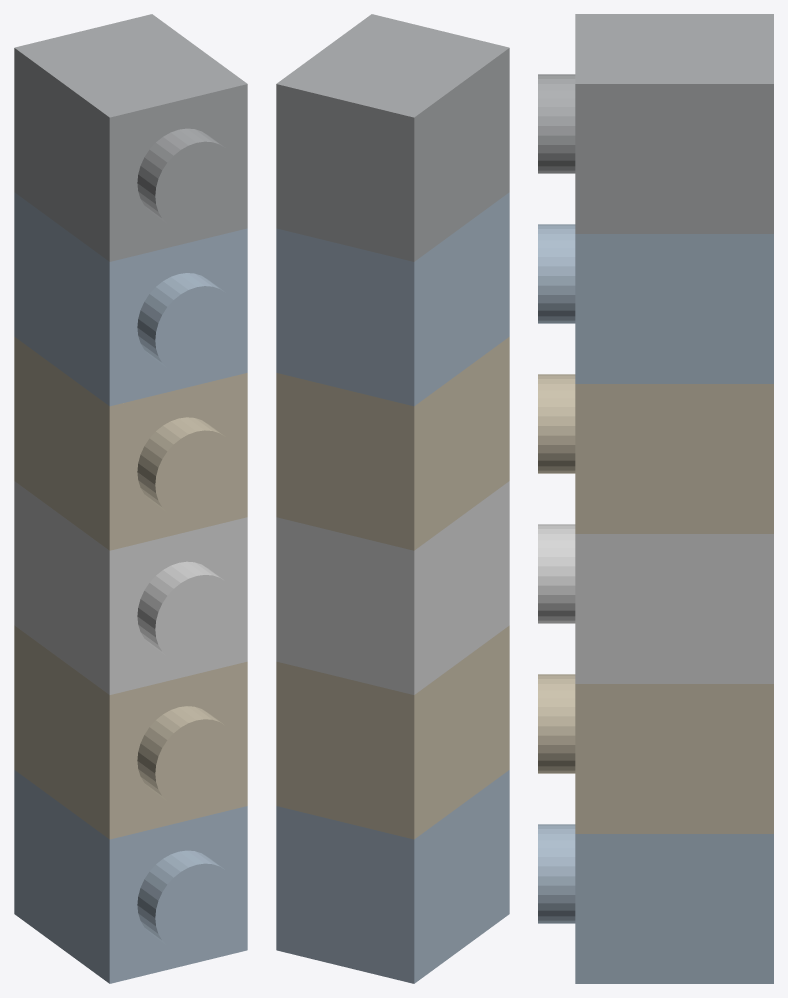
The model's file is current.glb.
3 renders of one model, left to right at view 1: azimuth 30°, elevation 25°; view 2: azimuth 150°, elevation 25°; view 3: azimuth 270°, elevation 25°, orthographic. The views are drawn at different scales.
Visible parts, largest first — view 1: world; view 2: world; view 3: world.
Boxes of the visible parts, x1,y1,x2,y2 form: world: (14,14,247,983); world: (276,14,509,983); world: (538,14,773,983).
Size of the model in its own units: 8 by 48 by 11.4.
